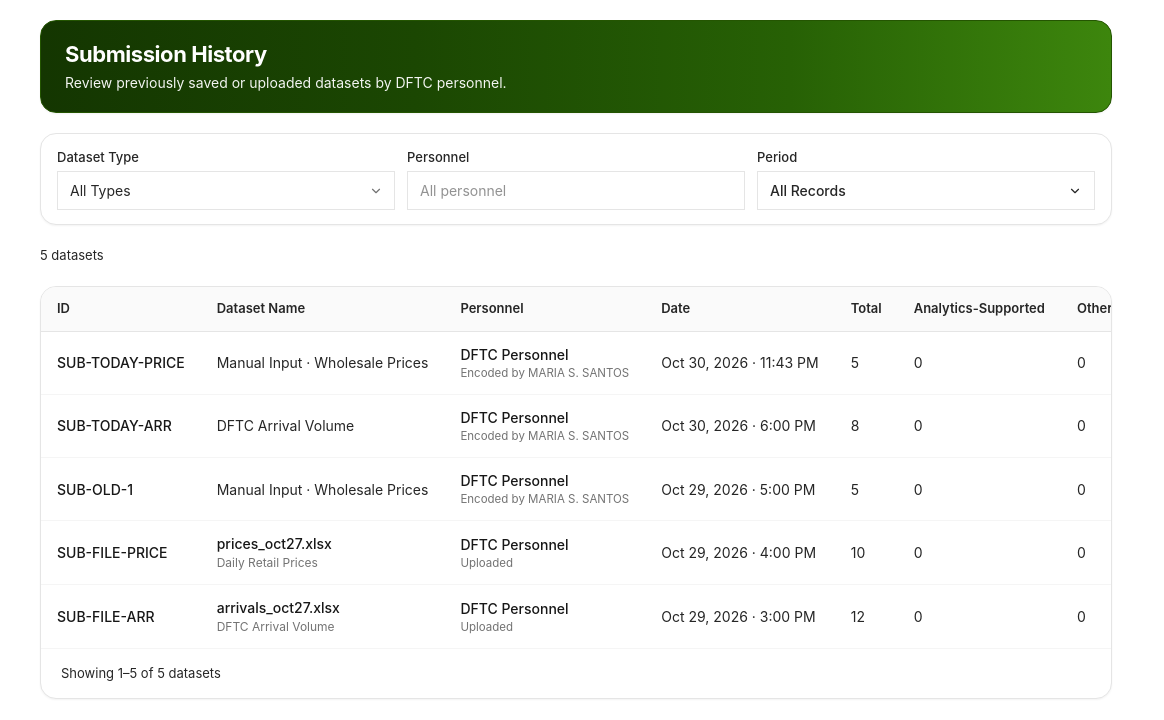
Test: DFTCSubmissions sorting and highlight › displays Dataset Name as table header and provides only the specified dropdown options
This screenshot has width=1164, height=720.
# Test filter: Price Data - File Upload
Select "Price Data - File Upload" in the dropdown at (226, 191), box 57,171 -> 395,210
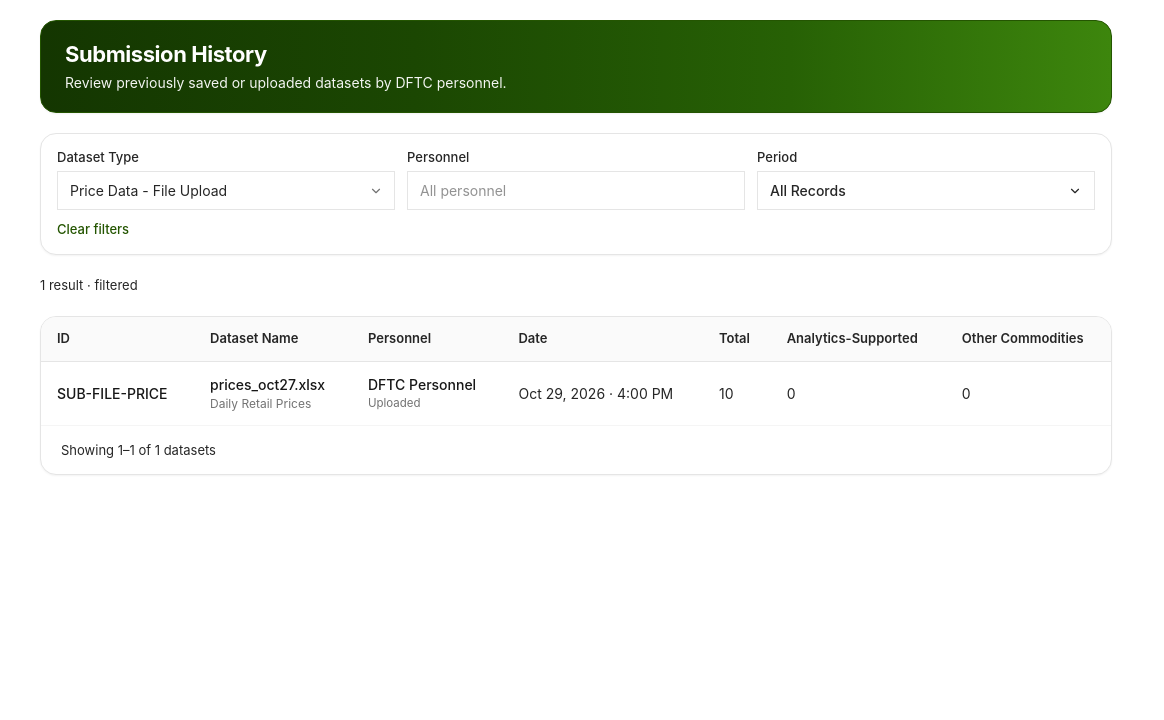
Result: the text "SUB-TODAY-PRICE" is gone
Result: the text "SUB-TODAY-ARR" is gone
Result: the text "SUB-FILE-ARR" is gone
# Test filter: Arrival Data - File Upload
Select "Arrival Data - File Upload" in the dropdown at (226, 191), box 57,171 -> 395,210
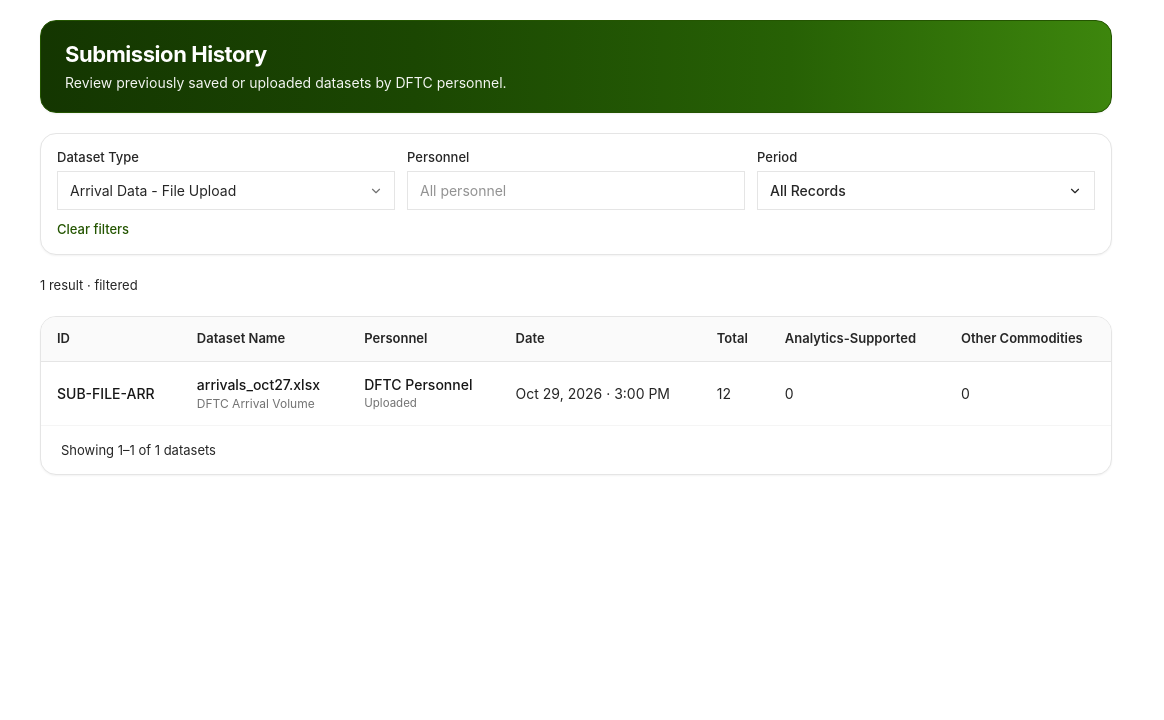
Expected: the text "SUB-TODAY-ARR" is not shown
Result: the text "SUB-FILE-ARR" is shown at 41,361 -> 181,424
Result: the text "SUB-FILE-PRICE" is gone
# Test filter: Price Data - Manual Input
Select "Price Data - Manual Input" in the dropdown at (226, 191), box 57,171 -> 395,210
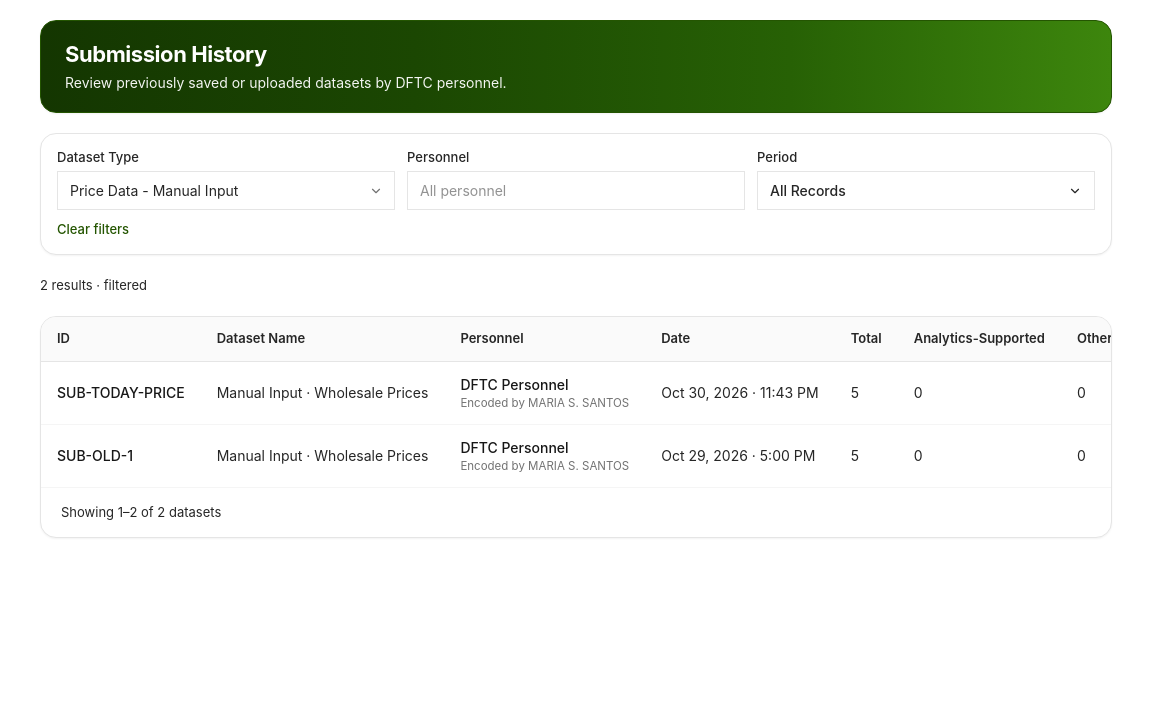
Expected: the text "SUB-FILE-PRICE" is not shown
Result: the text "SUB-TODAY-PRICE" is shown at 41,361 -> 201,424
Result: the text "SUB-FILE-ARR" is gone
# Test filter: Arrival Data - Manual Upload
Select "Arrival Data - Manual Upload" in the dropdown at (226, 191), box 57,171 -> 395,210
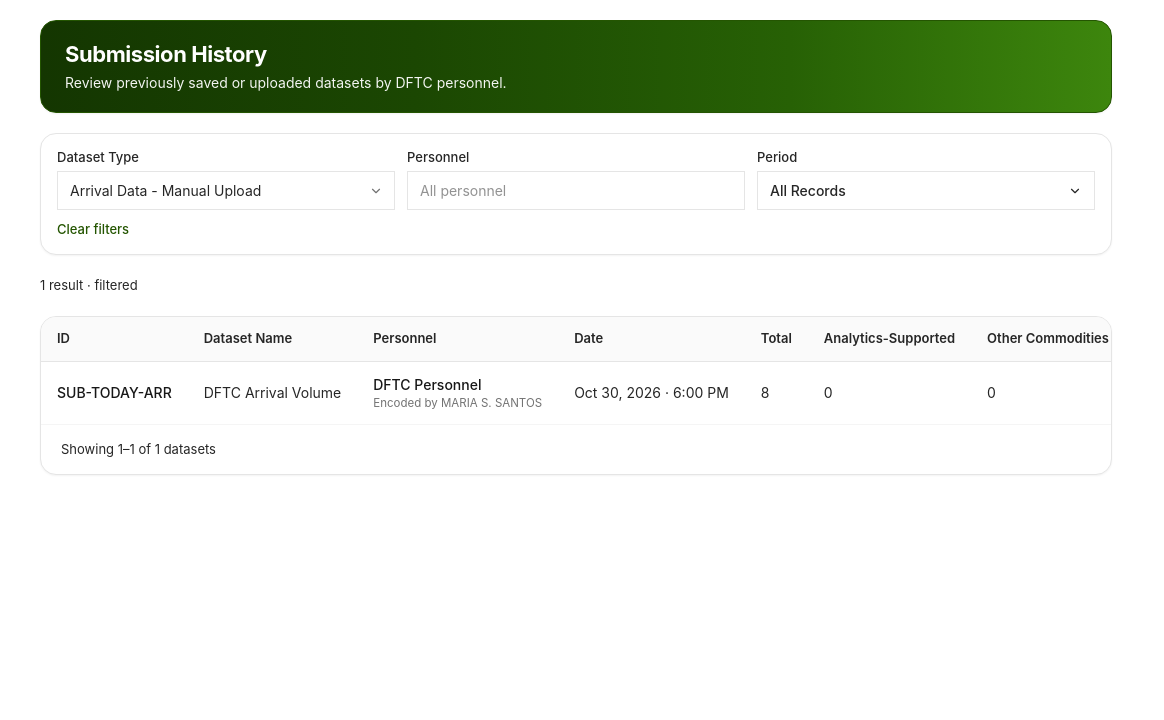
Expected: the text "SUB-FILE-PRICE" is not shown
Result: the text "SUB-TODAY-ARR" is shown at 41,361 -> 188,424
Result: the text "SUB-TODAY-PRICE" is gone
